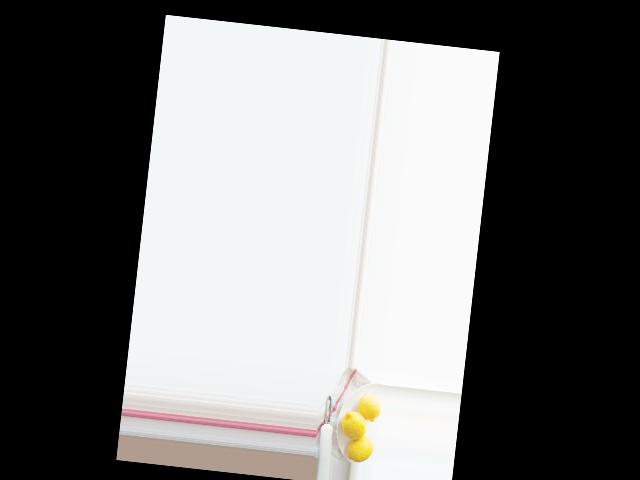lemon: (348, 434, 374, 466)
